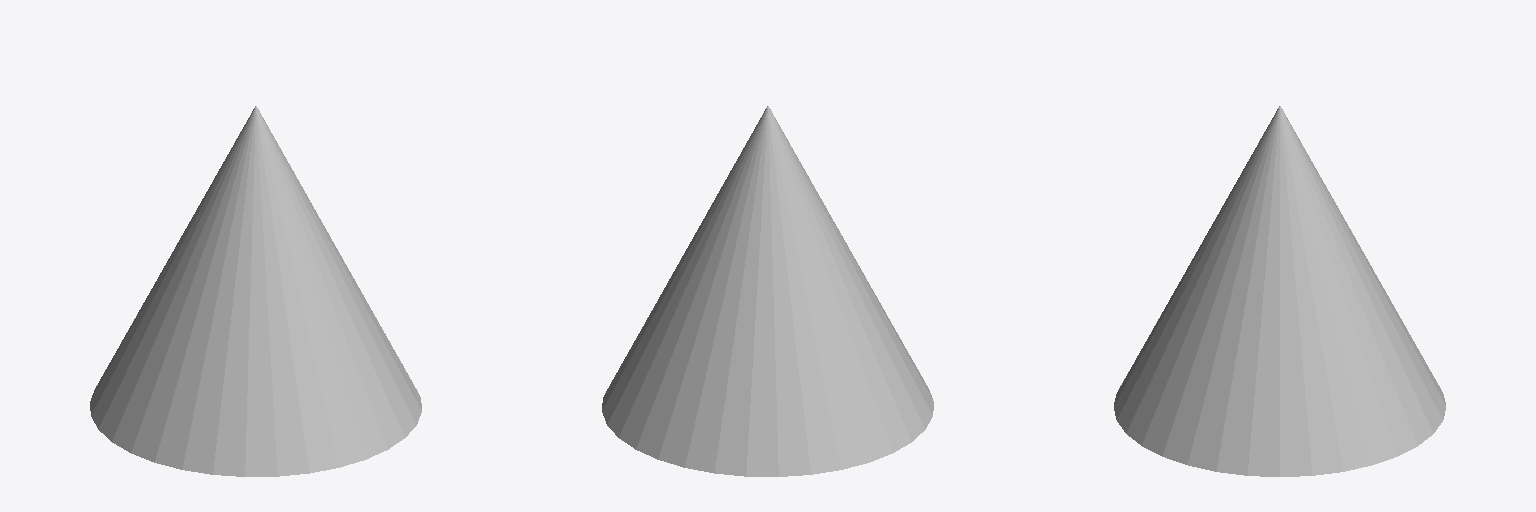
3 views of the same model, side by side, from view 1: azimuth 30°, elevation 25°; view 2: azimuth 150°, elevation 25°; view 3: azimuth 270°, elevation 25° (orthographic).
Parts seen in each view (by area): view 1: 锥体; view 2: 锥体; view 3: 锥体.
Boxes of the visible parts, x1,y1,x2,y2 form: 锥体: [90, 106, 421, 476]; 锥体: [602, 106, 933, 476]; 锥体: [1114, 106, 1445, 476].
Size of the model in its own units: 2 by 2 by 2.